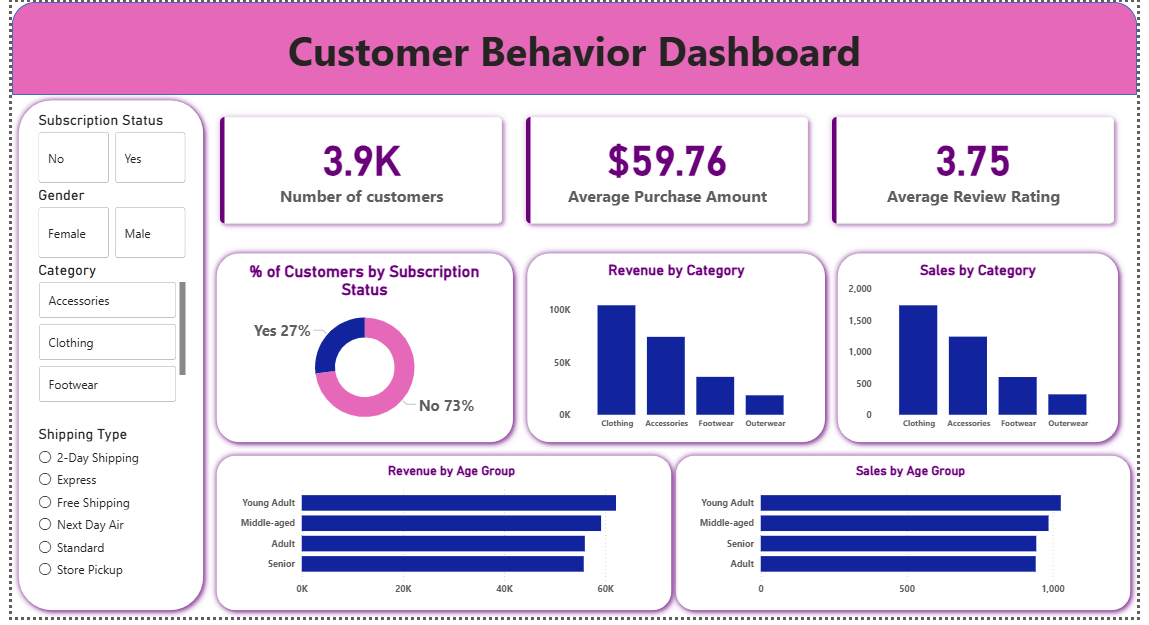

This screenshot's page, from the dashboard's own definition file:
{"tool":"powerbi","page":{"name":"Page 1","canvas":[1500,820],"ordinal":0},"visuals":[{"type":"cardVisual","fields":{"Data":["public customer.Number of customers","public customer.Average Purchase Amount","public customer.Average Review Rating"]},"box":[248,124,1252,200],"z":0},{"type":"shape","box":[0,0,1500,124],"z":1000},{"type":"textbox","box":[0,22,1500,100],"z":2000},{"type":"shape","box":[264,326,413.1,270],"z":3000},{"type":"donutChart","title":"% of Customers by Subscription Status","fields":{"Category":["public customer.subscription_status"],"Y":["CountNonNull(public customer.customer_id)"]},"box":[298,346,344,232],"z":4000},{"type":"shape","box":[677.1,326,415,270],"z":5000},{"type":"shape","box":[1092.1,326,391.9,270],"z":6000},{"type":"clusteredColumnChart","title":"Revenue by Category","fields":{"Y":["Sum(public customer.purchase_amount)"],"Category":["public customer.category"]},"box":[710,346,352,232],"z":7000},{"type":"clusteredColumnChart","title":"Sales by Category","fields":{"Y":["CountNonNull(public customer.customer_id)"],"Category":["public customer.category"]},"box":[1110,346,356,232],"z":8000},{"type":"shape","box":[0,122,264,698],"z":9000},{"type":"advancedSlicerVisual","fields":{"Values":["public customer.subscription_status"]},"box":[30,146,206,100],"z":10000},{"type":"advancedSlicerVisual","title":"Gender","fields":{"Values":["public customer.gender"]},"box":[30,246,206,100],"z":11000},{"type":"advancedSlicerVisual","title":"Category","fields":{"Values":["public customer.category"]},"box":[30,346,206,192],"z":12000},{"type":"listSlicer","title":"Shipping Type","fields":{"Values":["public customer.shipping_type"]},"box":[30,564,192,224],"z":13000},{"type":"shape","box":[264,596,624,224],"z":14000,"group":"g1"},{"type":"shape","box":[876,596,624,224],"z":14000},{"type":"clusteredBarChart","title":"Revenue by Age Group","fields":{"Y":["Sum(public customer.purchase_amount)"],"Category":["public customer.age_group"]},"box":[298,614,576,186],"z":15000,"group":"g1"},{"type":"clusteredBarChart","title":"Sales by Age Group","fields":{"Y":["CountNonNull(public customer.customer_id)"],"Category":["public customer.age_group"]},"box":[910,614,576,186],"z":15000},{"type":"group","id":"g1","title":"Group 1","box":[264,596,624,224],"z":15001}]}

Visuals, with their boxes in screenshot pixels (x1, y1, x2, y2), scaled from the page's 1500x820 canvas onto the 1149x625 screenshot:
cardVisual - public customer.Number of customers x public customer.Average Purchase Amount: bbox=[190, 95, 1148, 247]
shape: bbox=[0, 0, 1148, 95]
textbox: bbox=[0, 17, 1148, 93]
shape: bbox=[202, 248, 519, 454]
"% of Customers by Subscription Status" donutChart: bbox=[228, 264, 492, 441]
shape: bbox=[519, 248, 837, 454]
shape: bbox=[837, 248, 1137, 454]
"Revenue by Category" clusteredColumnChart: bbox=[544, 264, 813, 441]
"Sales by Category" clusteredColumnChart: bbox=[850, 264, 1123, 441]
shape: bbox=[0, 93, 202, 624]
advancedSlicerVisual - public customer.subscription_status: bbox=[23, 111, 181, 188]
"Gender" advancedSlicerVisual: bbox=[23, 188, 181, 264]
"Category" advancedSlicerVisual: bbox=[23, 264, 181, 410]
"Shipping Type" listSlicer: bbox=[23, 430, 170, 601]
shape: bbox=[202, 454, 680, 624]
shape: bbox=[671, 454, 1148, 624]
"Revenue by Age Group" clusteredBarChart: bbox=[228, 468, 669, 610]
"Sales by Age Group" clusteredBarChart: bbox=[697, 468, 1138, 610]
"Group 1" group: bbox=[202, 454, 680, 624]
